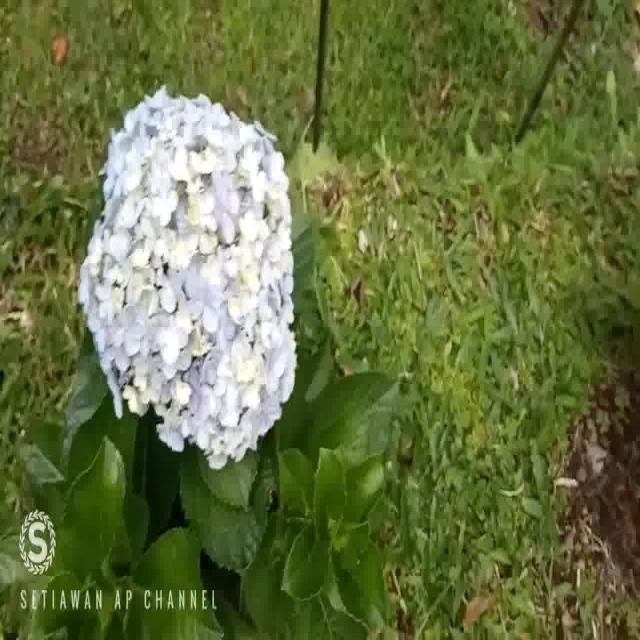Flower: (76, 79, 300, 485)
